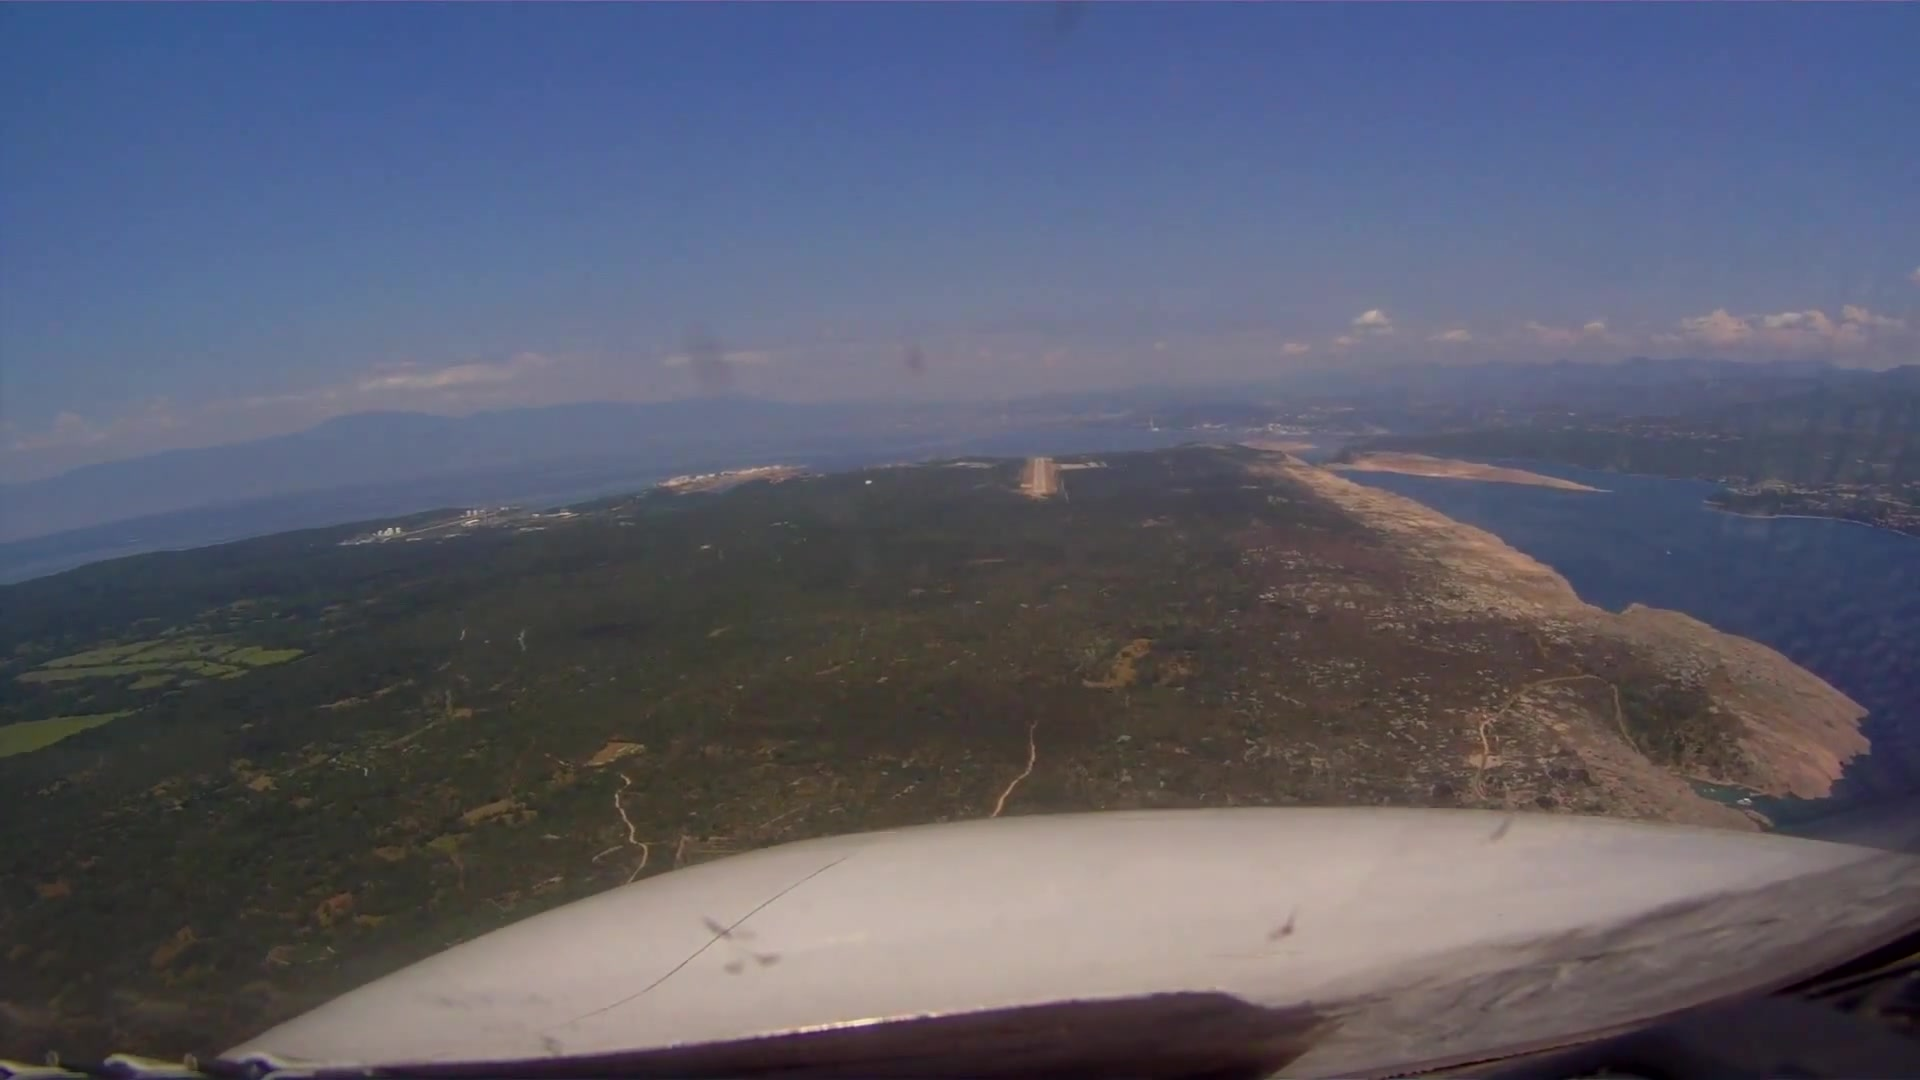runway: (1033, 458, 1046, 495)
